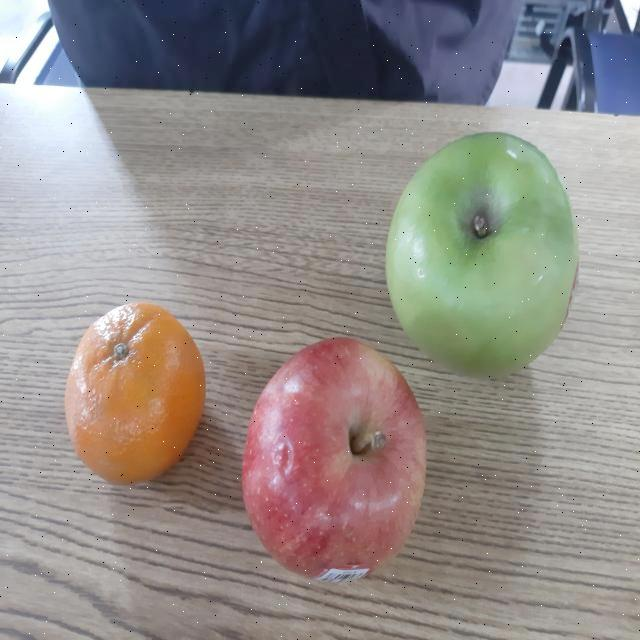Apel Gala: (239, 332, 430, 589)
Apel Granny Smith: (386, 126, 582, 382)
Jeruk Mandarin: (63, 296, 208, 486)
